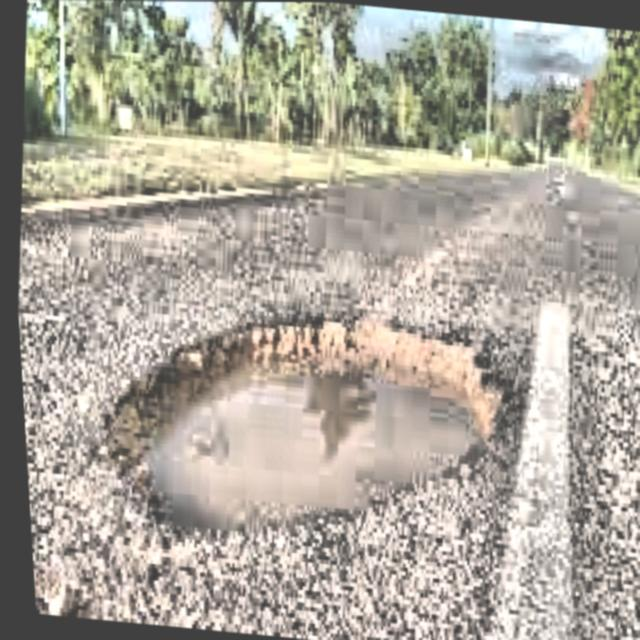pothole: (106, 322, 501, 523)
